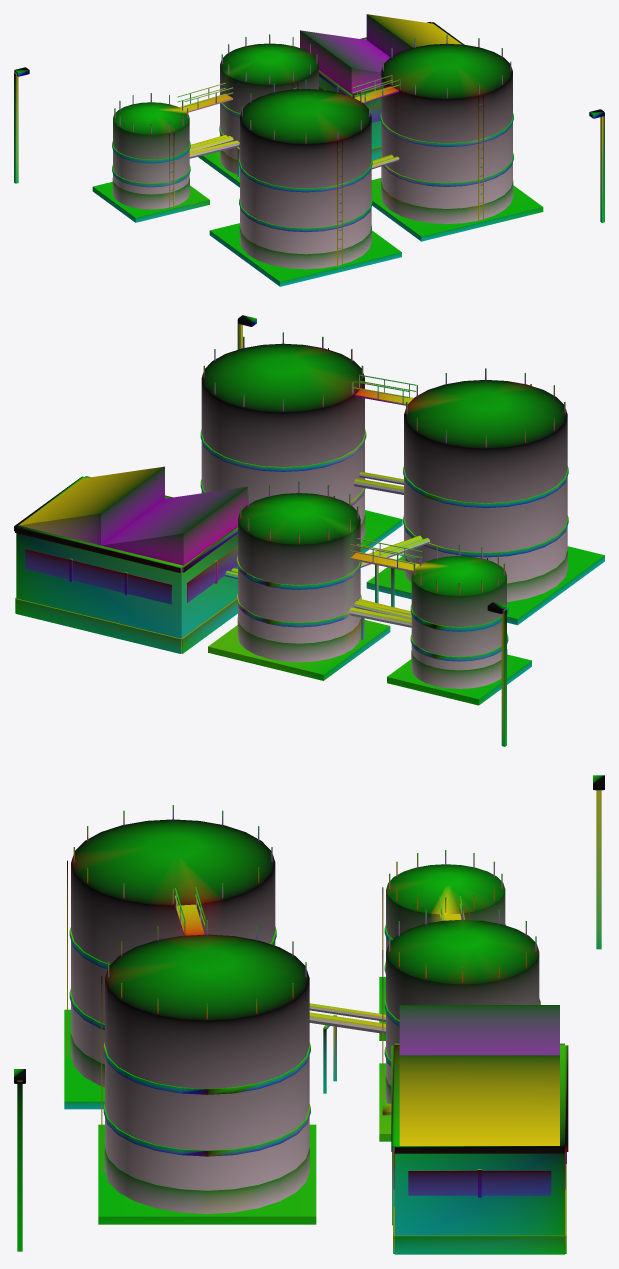
Rendered from Ind_Tanks_V2.fbx.
The picture shows the model from 3 angles, top to bottom: view 1: azimuth 30°, elevation 25°; view 2: azimuth 150°, elevation 25°; view 3: azimuth 270°, elevation 25°; orthographic projection. The views are drawn at different scales.
Parts seen in each view (by area): view 1: Ind_Tanks_V2_LOD0; view 2: Ind_Tanks_V2_LOD0; view 3: Ind_Tanks_V2_LOD0.
Part boxes in pixels (<box>): Ind_Tanks_V2_LOD0: <box>14,14,604,286</box>; Ind_Tanks_V2_LOD0: <box>14,315,604,746</box>; Ind_Tanks_V2_LOD0: <box>14,775,604,1254</box>.
Size of what is drawn, in the model's own units: 42.85 by 14.08 by 34.7.
